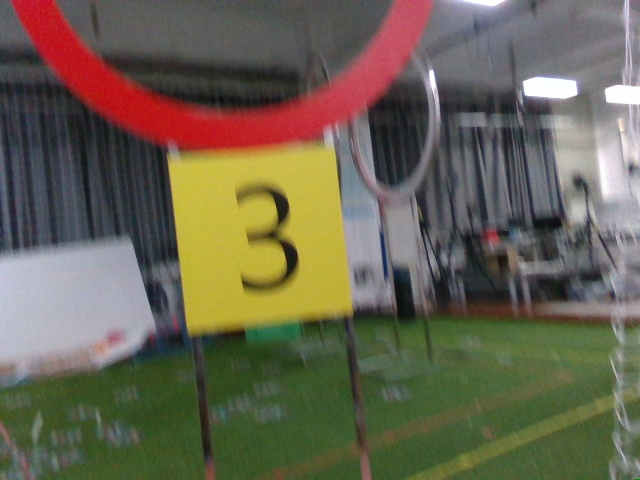target: (179, 139, 345, 314)
